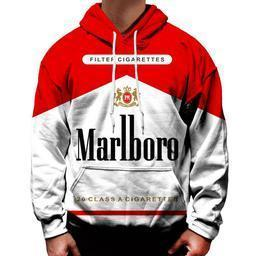sweater: (30, 4, 230, 243)
